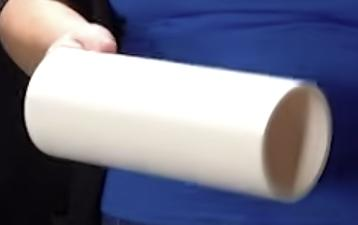coral: (24, 47, 332, 203)
